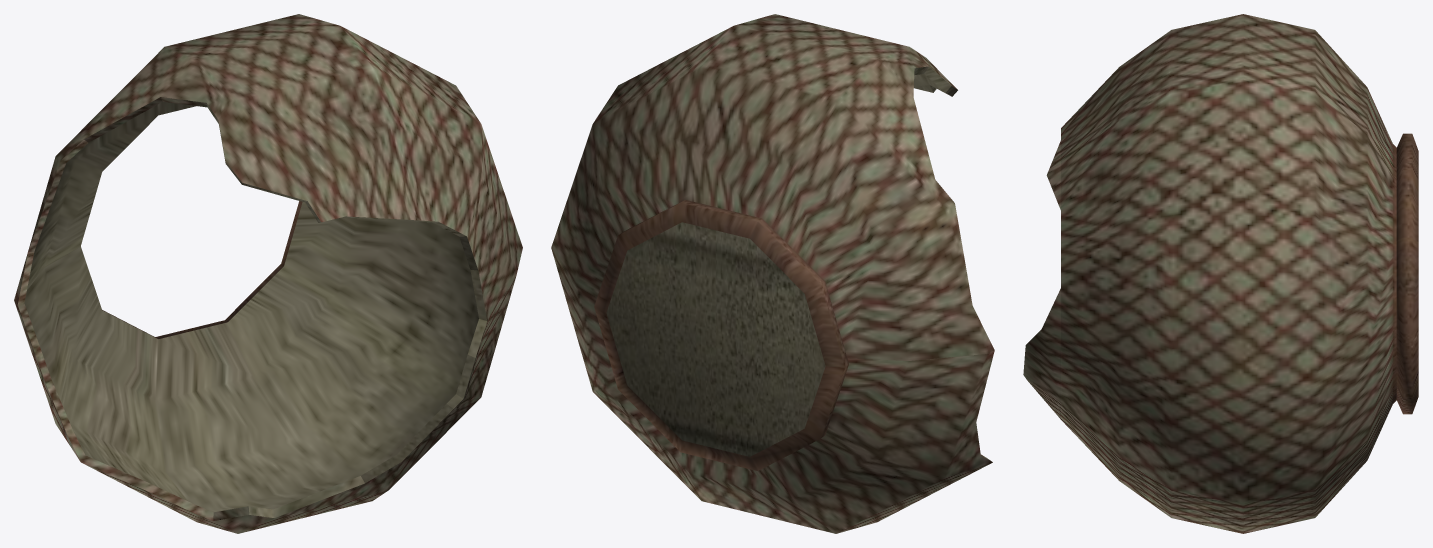
File: prop_churchdome_destroyed.glb
3 renders of one model, left to right at view 1: azimuth 30°, elevation 25°; view 2: azimuth 150°, elevation 25°; view 3: azimuth 270°, elevation 25°, orthographic. The views are drawn at different scales.
Bounding box in the file's own units: 111 × 108 × 85.93.
Materials: 1 (1 with a texture image).
